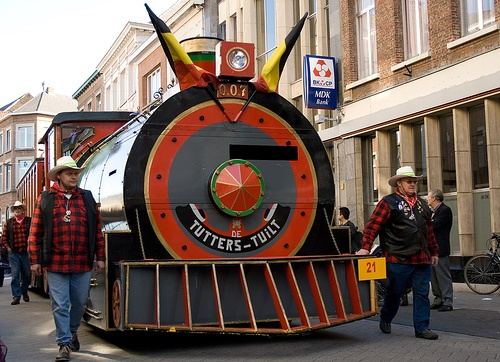head: (49, 158, 84, 191), (389, 167, 425, 196), (426, 188, 445, 212), (10, 199, 27, 221), (337, 205, 351, 225)
person: (352, 165, 440, 337), (31, 153, 101, 359), (1, 199, 31, 304), (427, 188, 453, 309), (335, 206, 358, 251)
